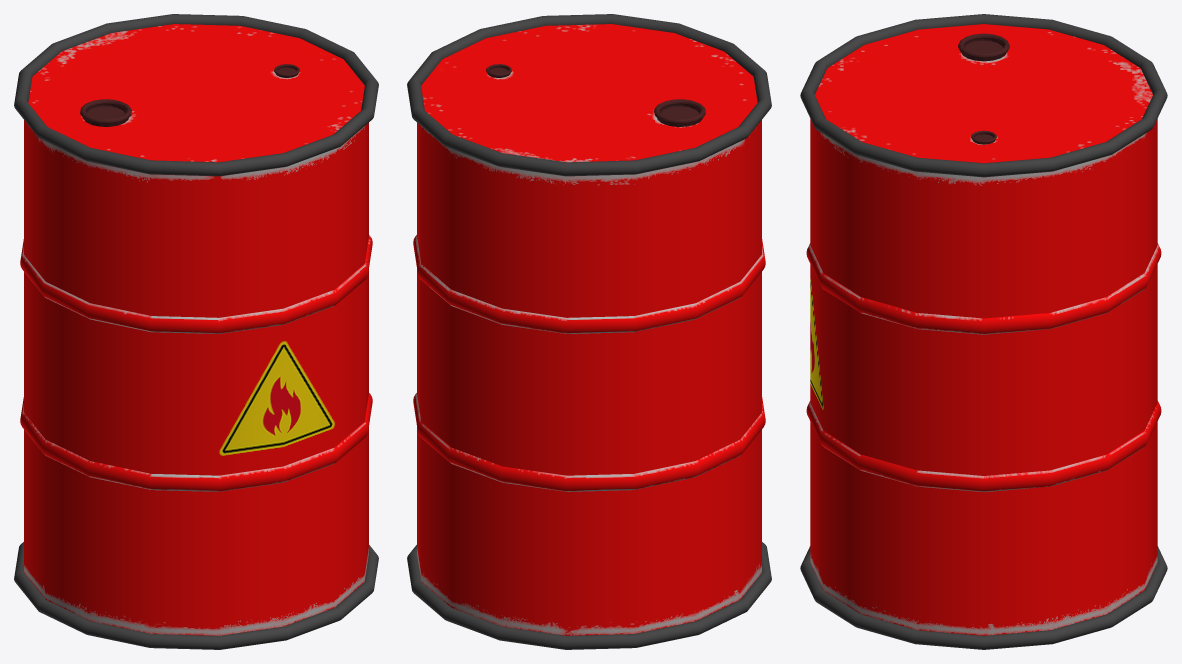
The model's file is oil_drum_ver1.3.fbx.
The picture shows the model from 3 angles, left to right: view 1: azimuth 30°, elevation 25°; view 2: azimuth 150°, elevation 25°; view 3: azimuth 270°, elevation 25°; orthographic projection.
Visible parts, largest first — view 1: oil_drum_g2; view 2: oil_drum_g2; view 3: oil_drum_g2.
Boxes of the visible parts, <box> form: oil_drum_g2: <box>14,14,378,649</box>; oil_drum_g2: <box>407,14,771,649</box>; oil_drum_g2: <box>800,14,1167,649</box>.
Bounding box in the file's own units: 127 × 185 × 127.
Materials: 1 (1 with a texture image).
